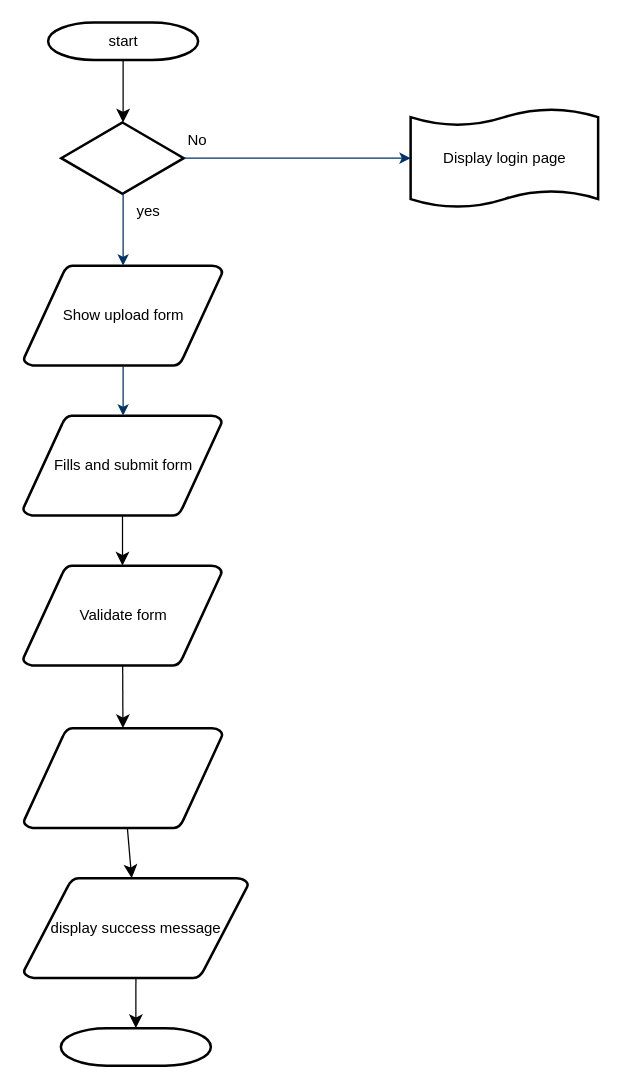
Some shapes in this 620 by 1089 pixel diagram are drawn without their labels. The box of each missing label's shape, as (x1, y1, x2, y2) in pixels:
end: (59, 1026, 212, 1066)
logged in?: (59, 121, 184, 194)
save form: (22, 726, 223, 829)
